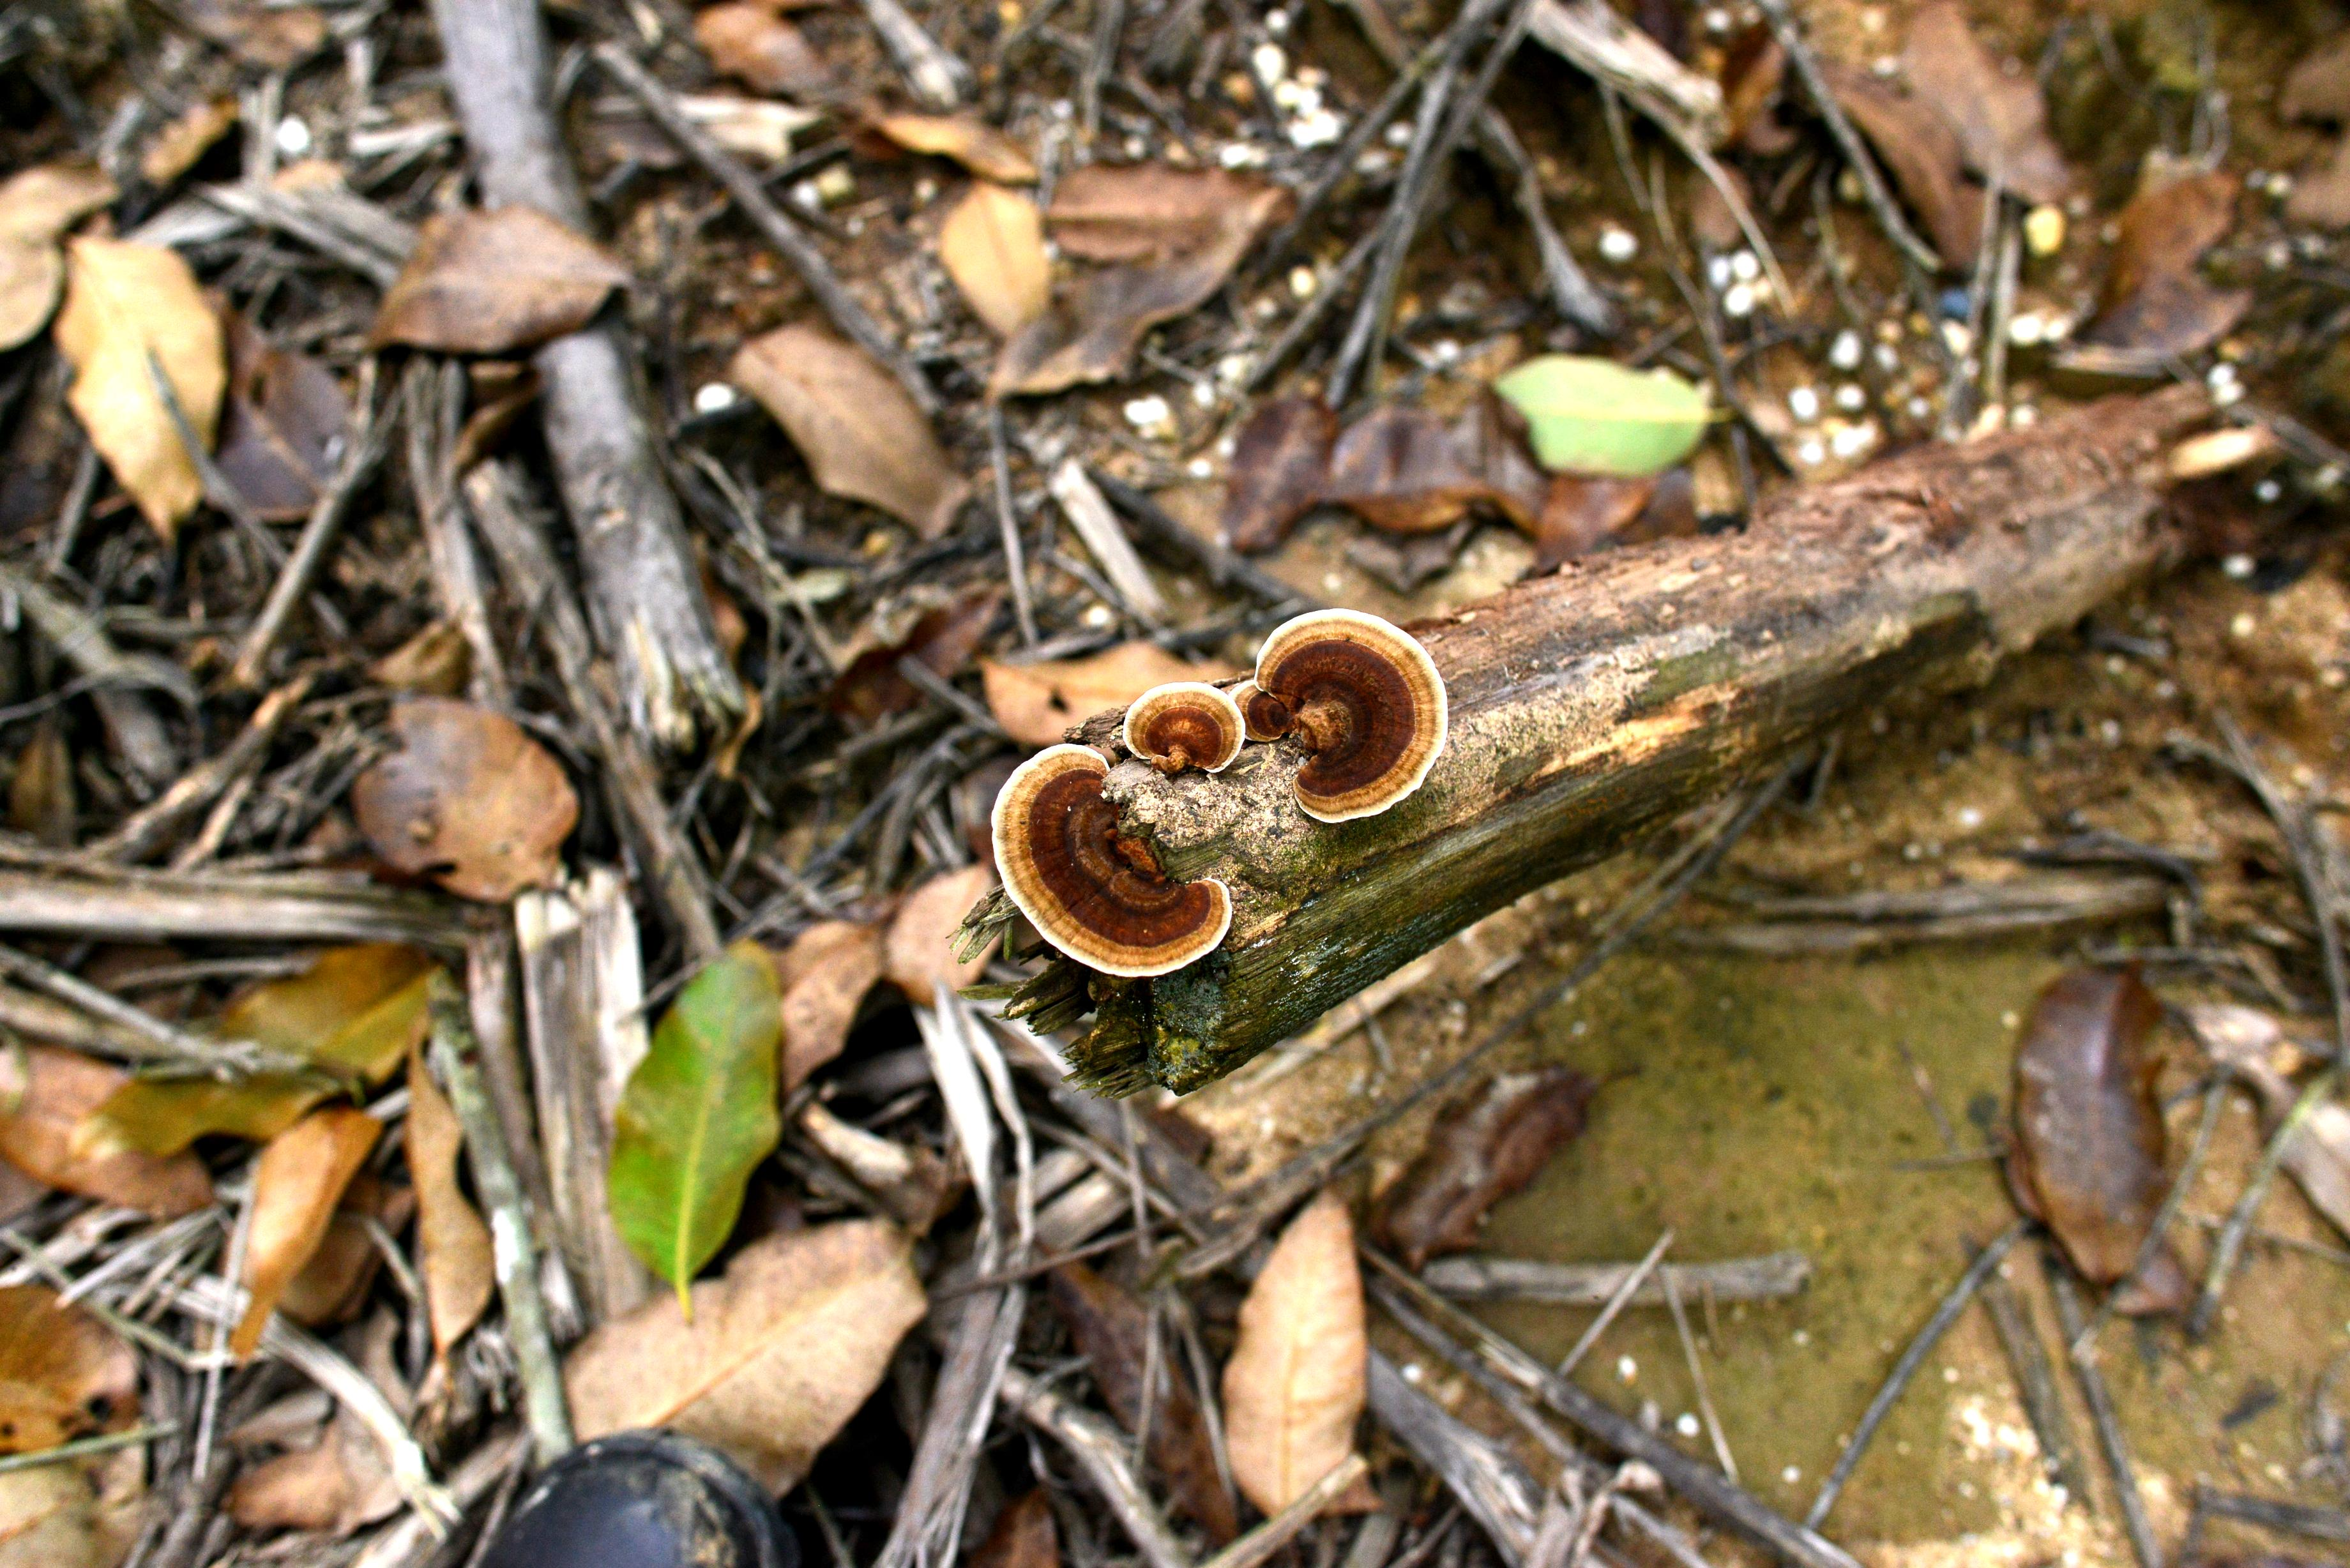Ganoderma - Fruit Body: (994, 742, 1241, 985), (1274, 614, 1456, 833), (1122, 677, 1248, 779)
